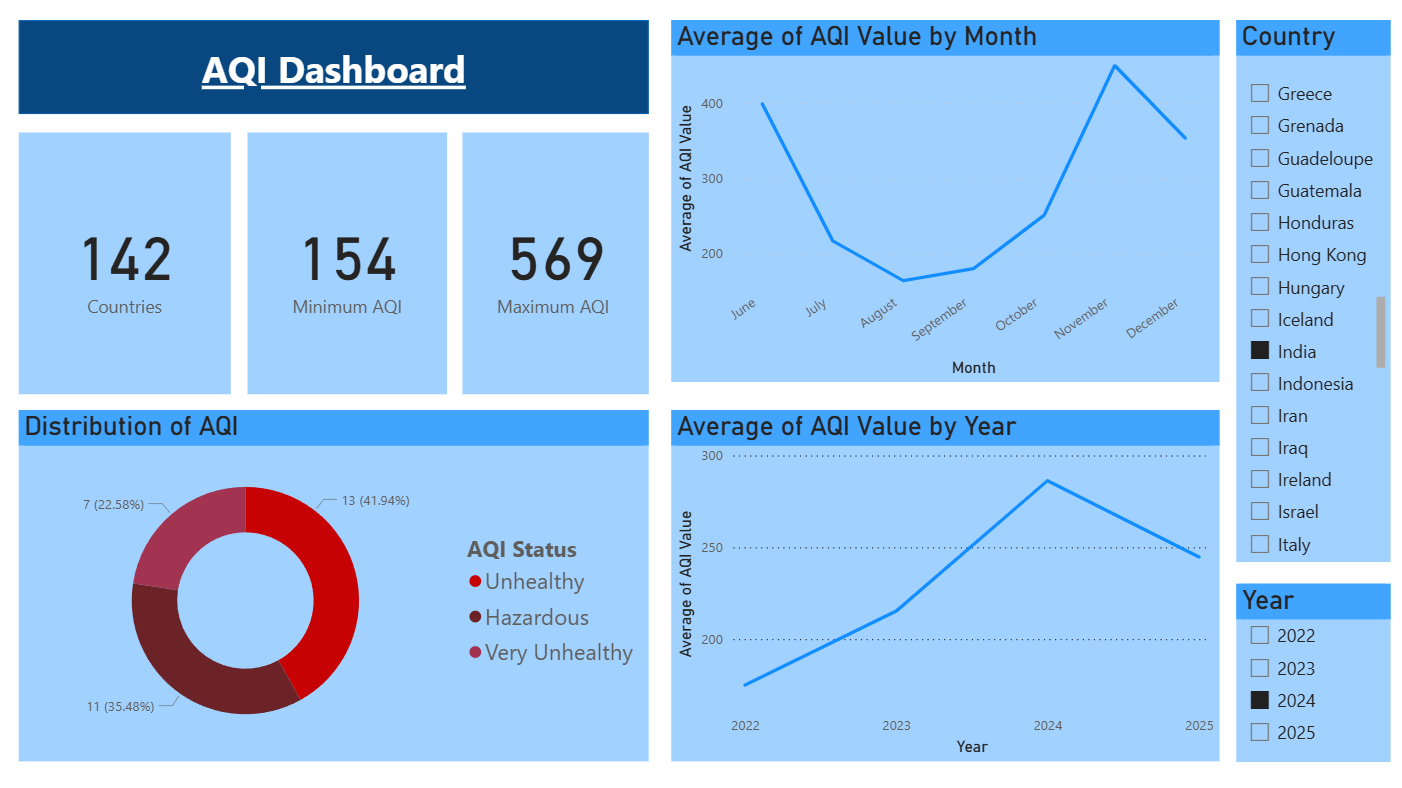

What the dashboard file says about the page in this screenshot:
{"tool":"powerbi","page":{"name":"Page 1","canvas":[1280,720],"ordinal":0},"visuals":[{"type":"lineChart","fields":{"Category":["aqi.Date.Variation.Date Hierarchy.Month","aqi.Date.Variation.Date Hierarchy.Day"],"Y":["Avg(aqi.AQI Value)"]},"box":[610,22.3,494.1,326.6],"z":0},{"type":"donutChart","title":"Distribution of AQI","fields":{"Category":["aqi.Status"],"Y":["CountNonNull(aqi.Status)"]},"box":[20.9,374.1,568.1,316.9],"z":1000},{"type":"slicer","title":"Country","fields":{"Values":["aqi.Country"]},"box":[1119.5,22.3,139.6,488.5],"z":2000},{"type":"slicer","title":"Year","fields":{"Values":["aqi.Date.Variation.Date Hierarchy.Year"]},"box":[1119.5,530.4,139.6,160.5],"z":3000},{"type":"shape","box":[20.9,22.3,568.1,85.1],"z":4000},{"type":"card","fields":{"Values":["Count(aqi.Country)"]},"box":[20.9,124.2,191.2,235.9],"z":5000},{"type":"lineChart","fields":{"Category":["aqi.Date.Variation.Date Hierarchy.Year","aqi.Date.Variation.Date Hierarchy.Quarter","aqi.Date.Variation.Date Hierarchy.Month","aqi.Date.Variation.Date Hierarchy.Day"],"Y":["Avg(aqi.AQI Value)"]},"box":[610,374.1,494.1,316.9],"z":6000},{"type":"card","fields":{"Values":["Min(aqi.AQI Value)"]},"box":[227.5,124.2,180.1,235.9],"z":6001},{"type":"card","fields":{"Values":["Max(aqi.AQI Value)"]},"box":[421,124,168,236],"z":6002}]}

Visuals, with their boxes in screenshot pixels (x1, y1, x2, y2), scaled from the page's 1280x720 canvas onto the 1402x788 screenshot:
lineChart - aqi.Date.Variation.Date Hierarchy.Month x aqi.Date.Variation.Date Hierarchy.Day: 668,24,1209,382
"Distribution of AQI" donutChart: 23,409,645,756
"Country" slicer: 1226,24,1379,559
"Year" slicer: 1226,580,1379,756
shape: 23,24,645,118
card - Count(aqi.Country): 23,136,232,394
lineChart - aqi.Date.Variation.Date Hierarchy.Year x aqi.Date.Variation.Date Hierarchy.Quarter: 668,409,1209,756
card - Min(aqi.AQI Value): 249,136,446,394
card - Max(aqi.AQI Value): 461,136,645,394
